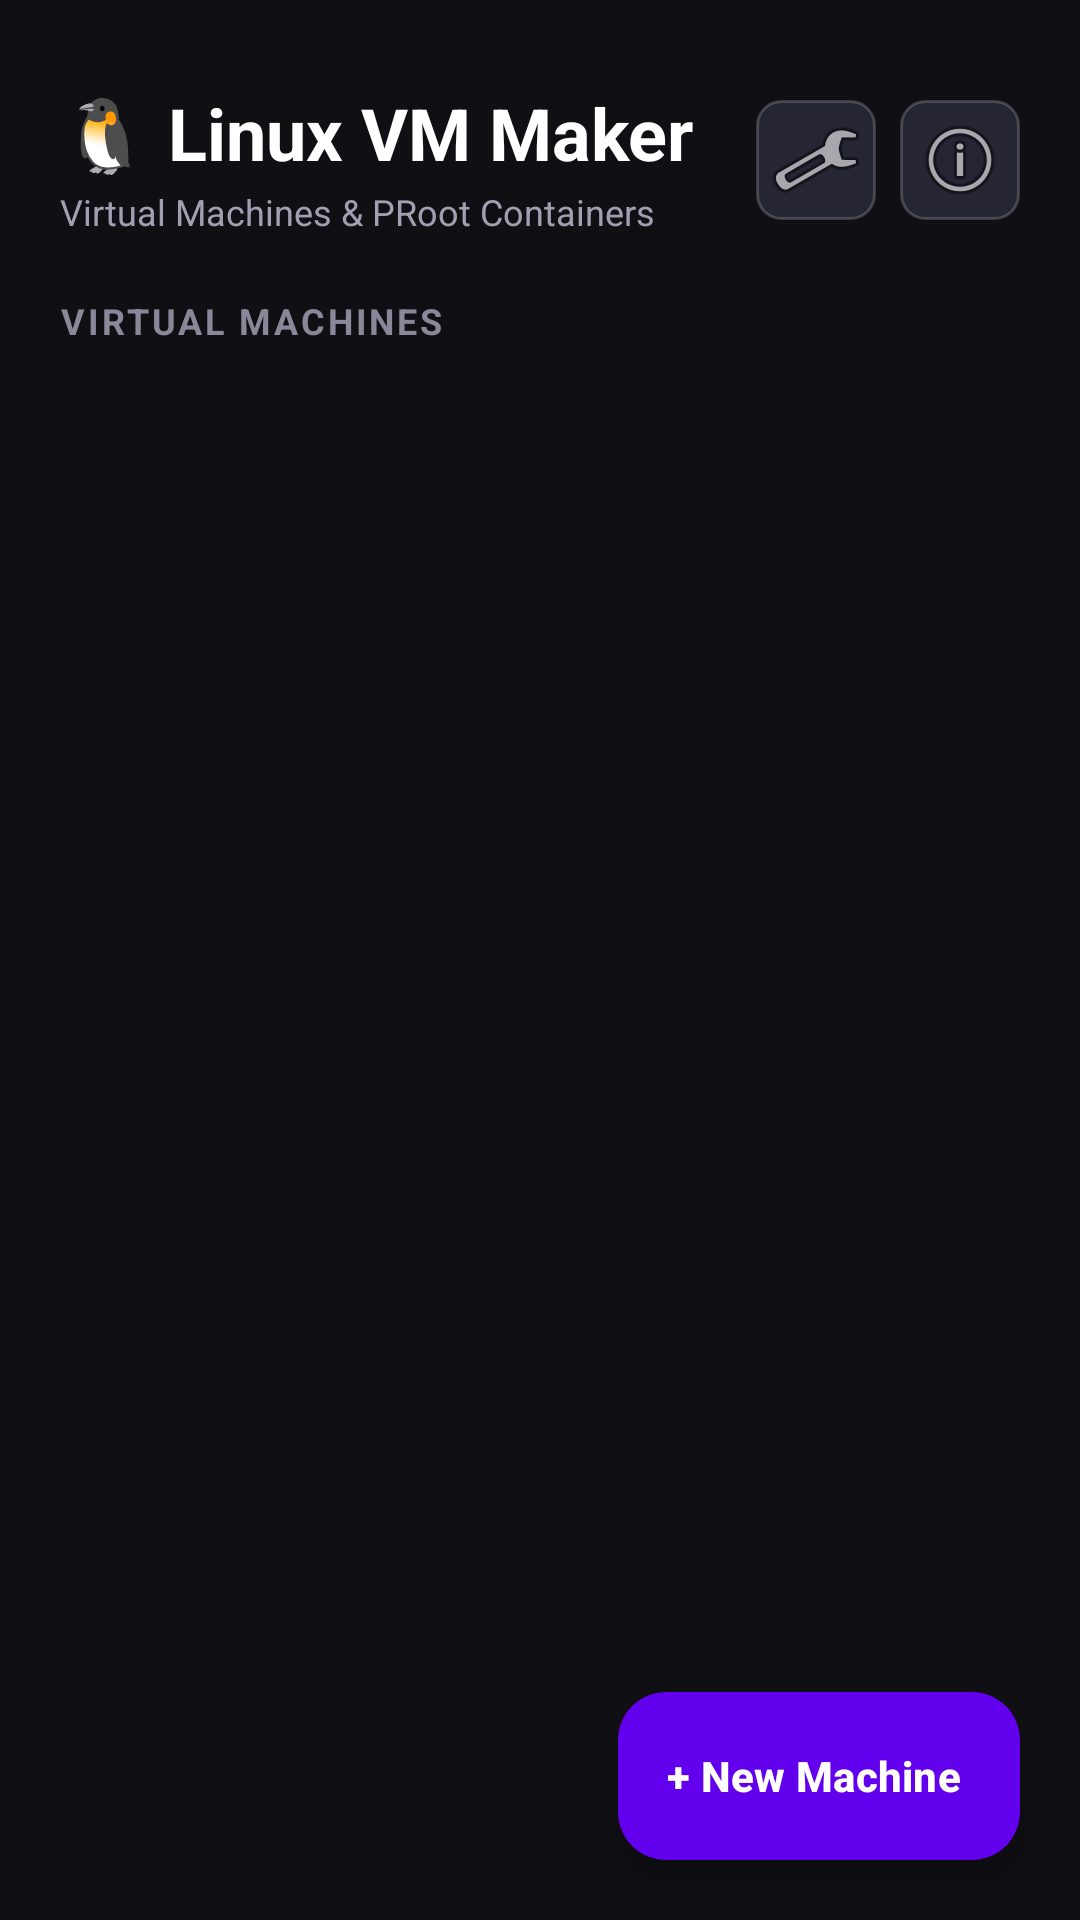

Where to tap for icons on this 1080px x 1920px app screen, as (x=x, y=y):
About: (x=960, y=160)
Settings: (x=816, y=160)
